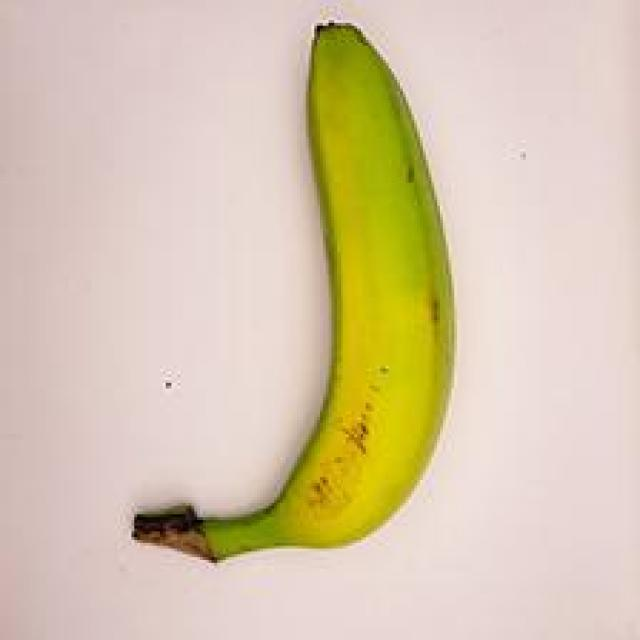Unripe: (94, 7, 502, 593)
